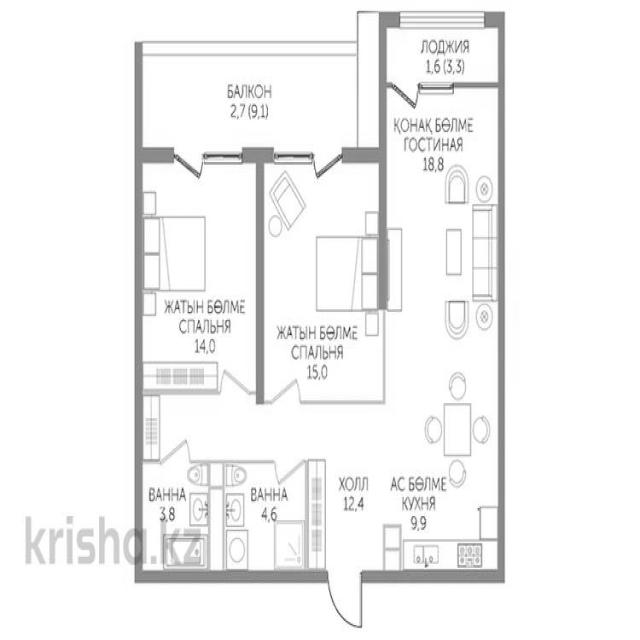balcony: (136, 37, 382, 151), (386, 22, 501, 85)
bathroom: (223, 460, 322, 570), (139, 462, 218, 569), (328, 415, 381, 568)
living_room: (264, 159, 388, 407), (142, 165, 259, 398)
studio: (387, 93, 499, 572)
